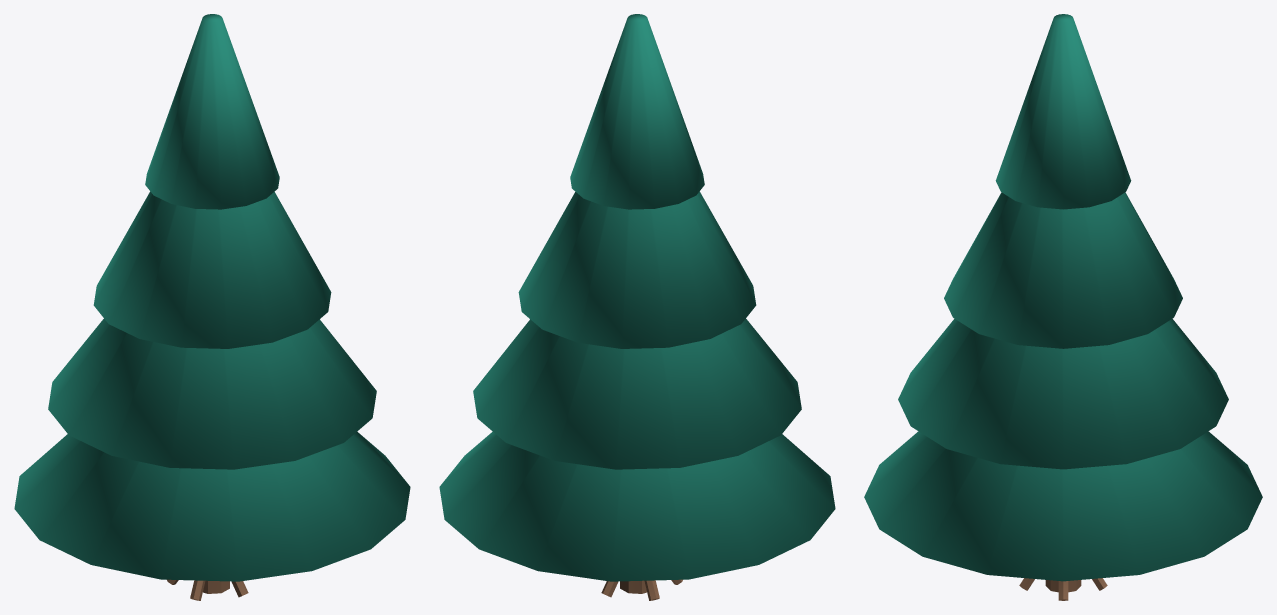
Rendered from tree-fir.glb.
The picture shows the model from 3 angles, left to right: view 1: azimuth 30°, elevation 25°; view 2: azimuth 150°, elevation 25°; view 3: azimuth 270°, elevation 25°; orthographic projection.
Visible parts, largest first — view 1: layered fir crown, branch; view 2: layered fir crown, branch; view 3: layered fir crown, branch.
Part boxes in pixels (<box>): layered fir crown: <box>14,14,410,581</box>; branch: <box>167,579,248,600</box>; layered fir crown: <box>439,14,835,581</box>; branch: <box>601,579,682,600</box>; layered fir crown: <box>864,14,1262,581</box>; branch: <box>1019,578,1107,600</box>.
Size of the model in its own units: 2 by 3.14 by 2.
